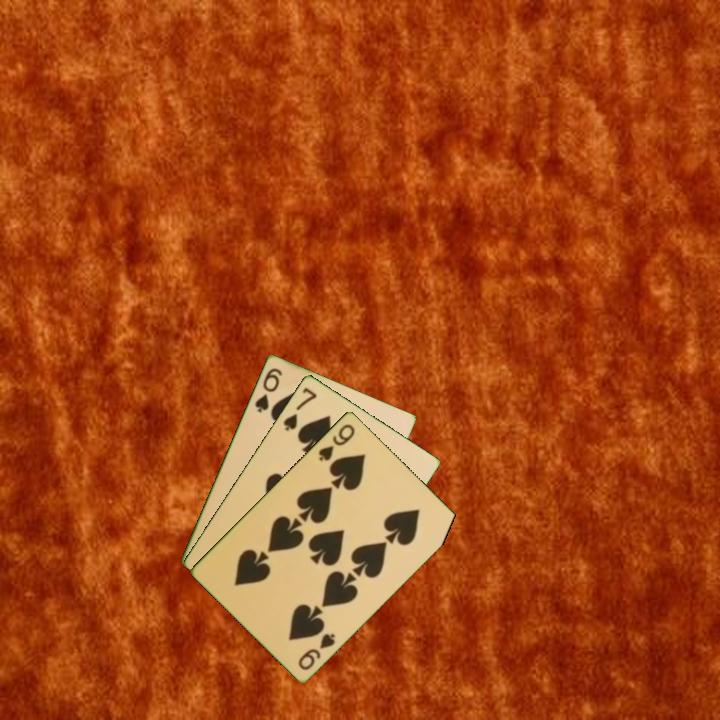6s: (251, 364, 285, 415)
7s: (279, 383, 320, 433)
9s: (315, 420, 358, 464), (295, 629, 338, 673)
